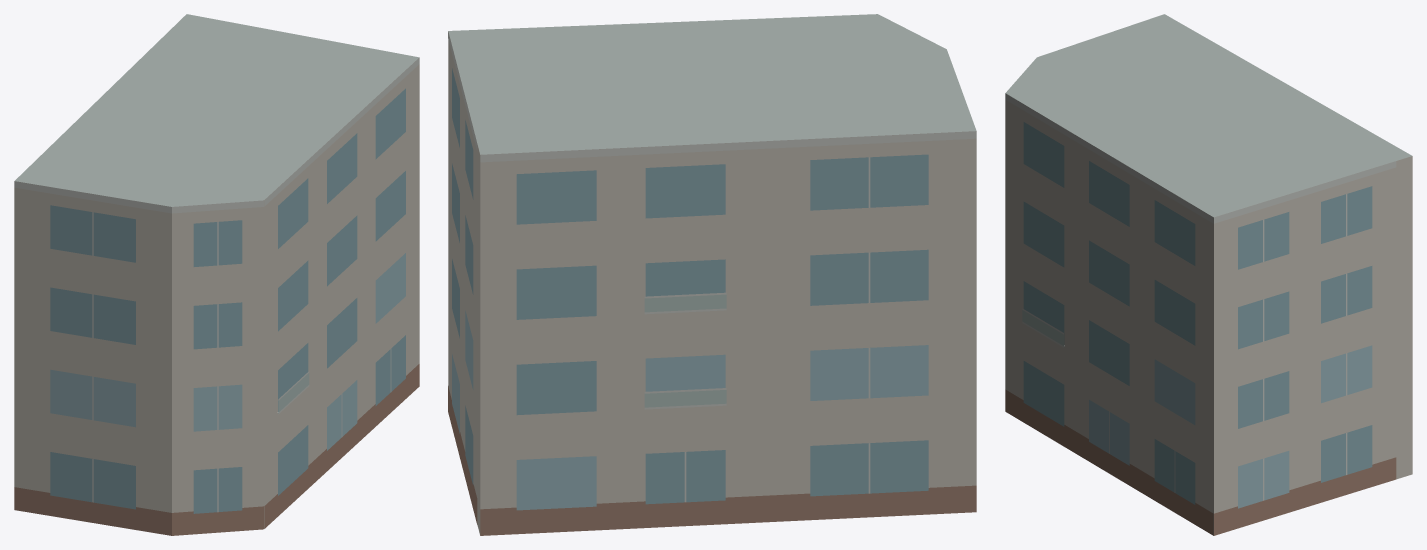
The model's file is survey-upis-32959057.glb.
3 views of the same model, side by side, from view 1: azimuth 30°, elevation 25°; view 2: azimuth 150°, elevation 25°; view 3: azimuth 270°, elevation 25° (orthographic). The views are drawn at different scales.
Parts seen in each view (by area): view 1: survey-upis-32959057.tmp; view 2: survey-upis-32959057.tmp; view 3: survey-upis-32959057.tmp.
Boxes of the visible parts, <box> form: survey-upis-32959057.tmp: <box>14,14,419,535</box>; survey-upis-32959057.tmp: <box>448,14,976,535</box>; survey-upis-32959057.tmp: <box>1005,14,1412,535</box>.
Size of the model in its own units: 16.72 by 12.2 by 14.15.
